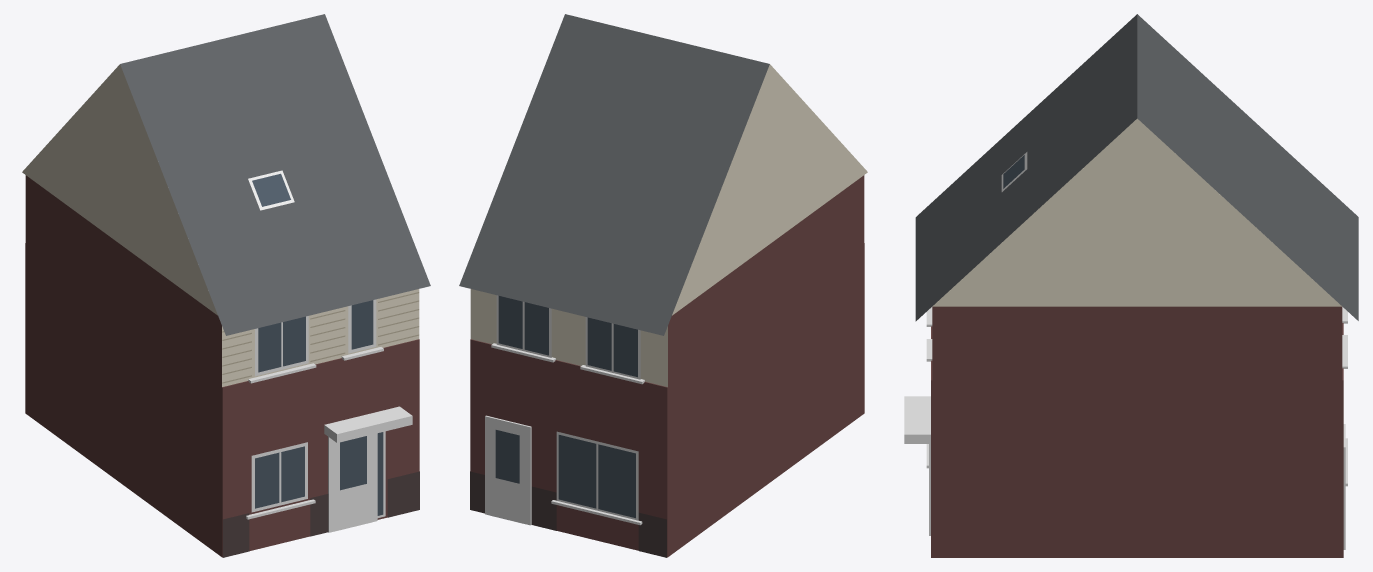
The model's file is th-gk-row__hood__2__gable__long__solid__f0d0.glb.
The picture shows the model from 3 angles, left to right: view 1: azimuth 30°, elevation 25°; view 2: azimuth 150°, elevation 25°; view 3: azimuth 270°, elevation 25°; orthographic projection. The views are drawn at different scales.
Visible parts, largest first — view 1: th-gk-row__hood__2__gable__long__solid__f0d0; view 2: th-gk-row__hood__2__gable__long__solid__f0d0; view 3: th-gk-row__hood__2__gable__long__solid__f0d0.
Part boxes in pixels (x1=…): th-gk-row__hood__2__gable__long__solid__f0d0: x1=22, y1=14, x2=430, y2=557; th-gk-row__hood__2__gable__long__solid__f0d0: x1=459, y1=14, x2=867, y2=557; th-gk-row__hood__2__gable__long__solid__f0d0: x1=904, y1=14, x2=1358, y2=557.
Size of the model in its own units: 5.29 by 10.43 by 9.73.
